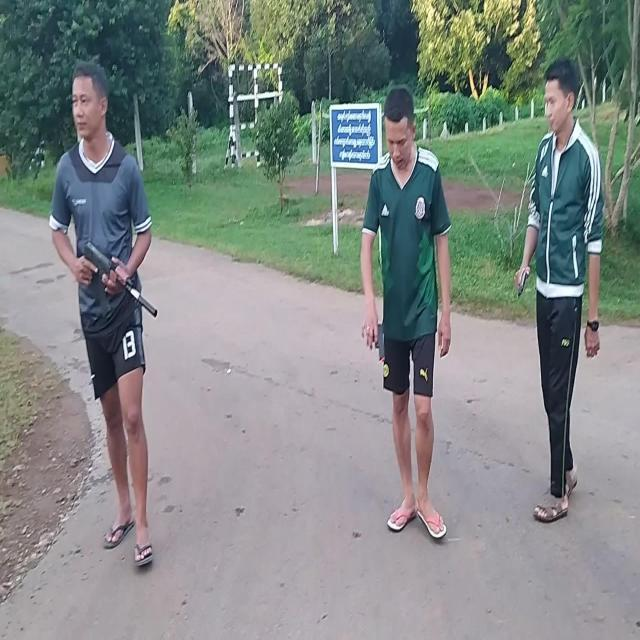gun: (85, 243, 157, 317), (376, 323, 385, 361)
